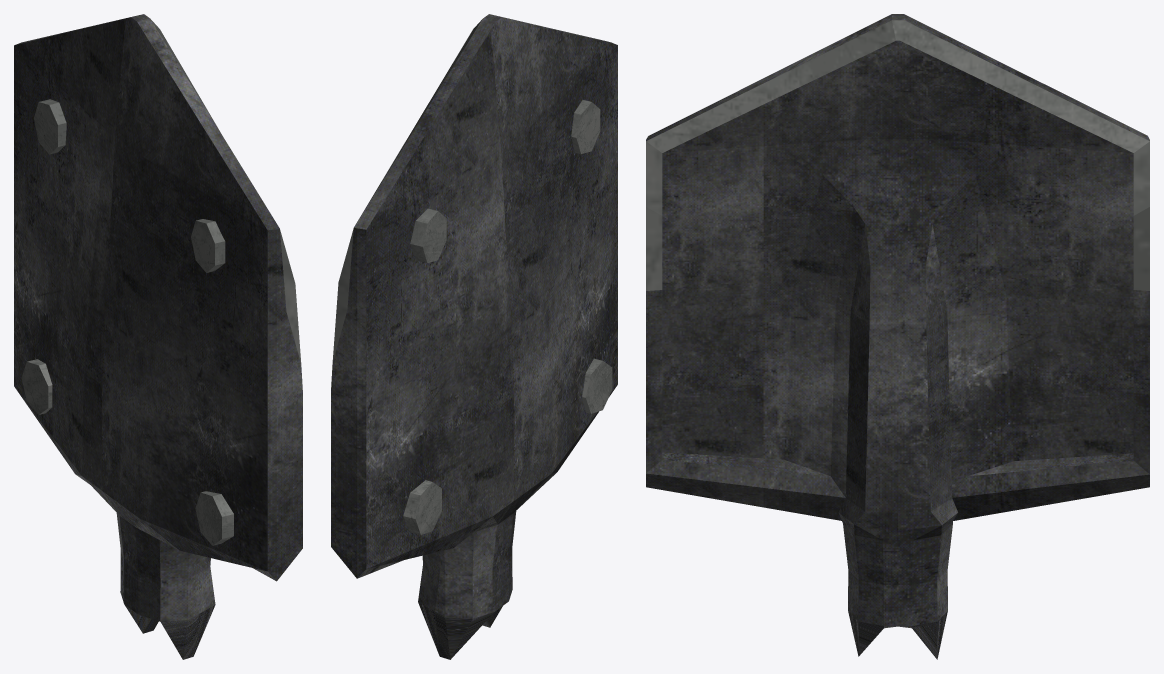
Rendered from grapplerHead.glb.
The picture shows the model from 3 angles, left to right: view 1: azimuth 30°, elevation 25°; view 2: azimuth 150°, elevation 25°; view 3: azimuth 270°, elevation 25°; orthographic projection.
Visible parts, largest first — view 1: Cube.002; view 2: Cube.002; view 3: Cube.002.
Part boxes in pixels (x1=…): Cube.002: x1=14, y1=14, x2=302, y2=659; Cube.002: x1=331, y1=14, x2=617, y2=659; Cube.002: x1=646, y1=14, x2=1149, y2=659.
Bounding box in the file's own units: 0.0586 × 0.3751 × 0.273.
2 materials, 2 textured.
